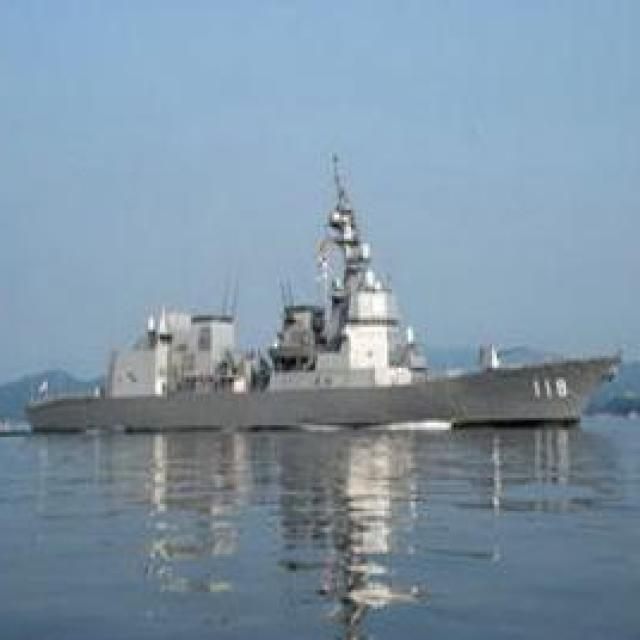navalvessels: (0, 141, 628, 439)
